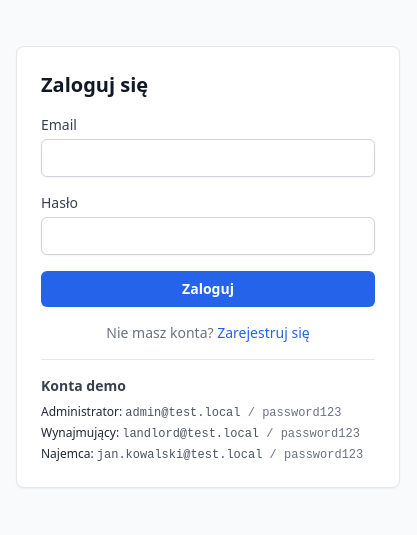
it: LoginPage (integration) › displays an error message when login fails with a Supabase error
Type "bad@example.com" into the field labelled "Email" at (208, 158), box [41,139,375,177]
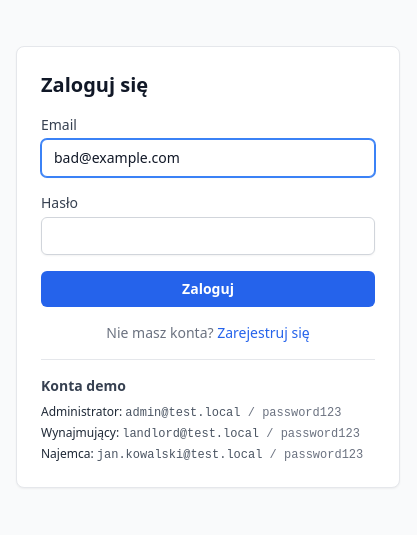
Type "wrong" into the password field labelled "Hasło" at (208, 236), box [41,217,375,255]
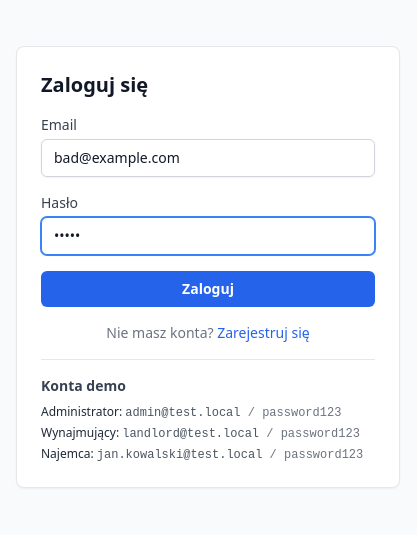
Click the button "Zaloguj" at (208, 289), box [41,271,375,307]
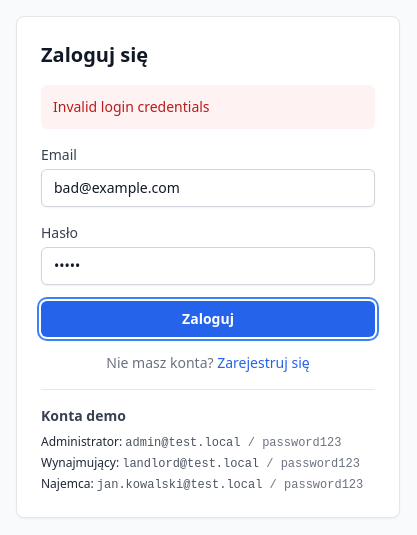
Expected: the text "Invalid login credentials" is shown, [41,85,375,129]
